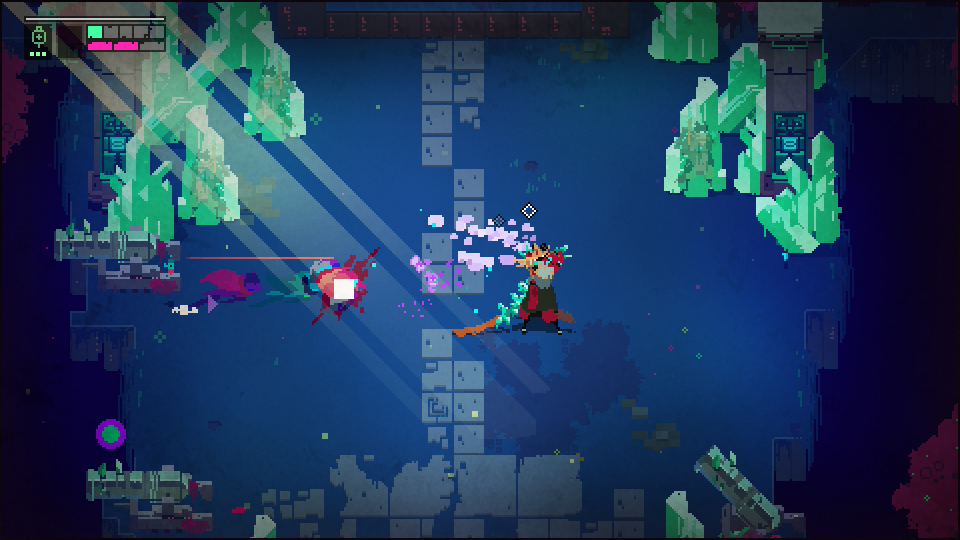hanged_man: (494, 244, 574, 346)
hanged_shot: (96, 419, 130, 451)
